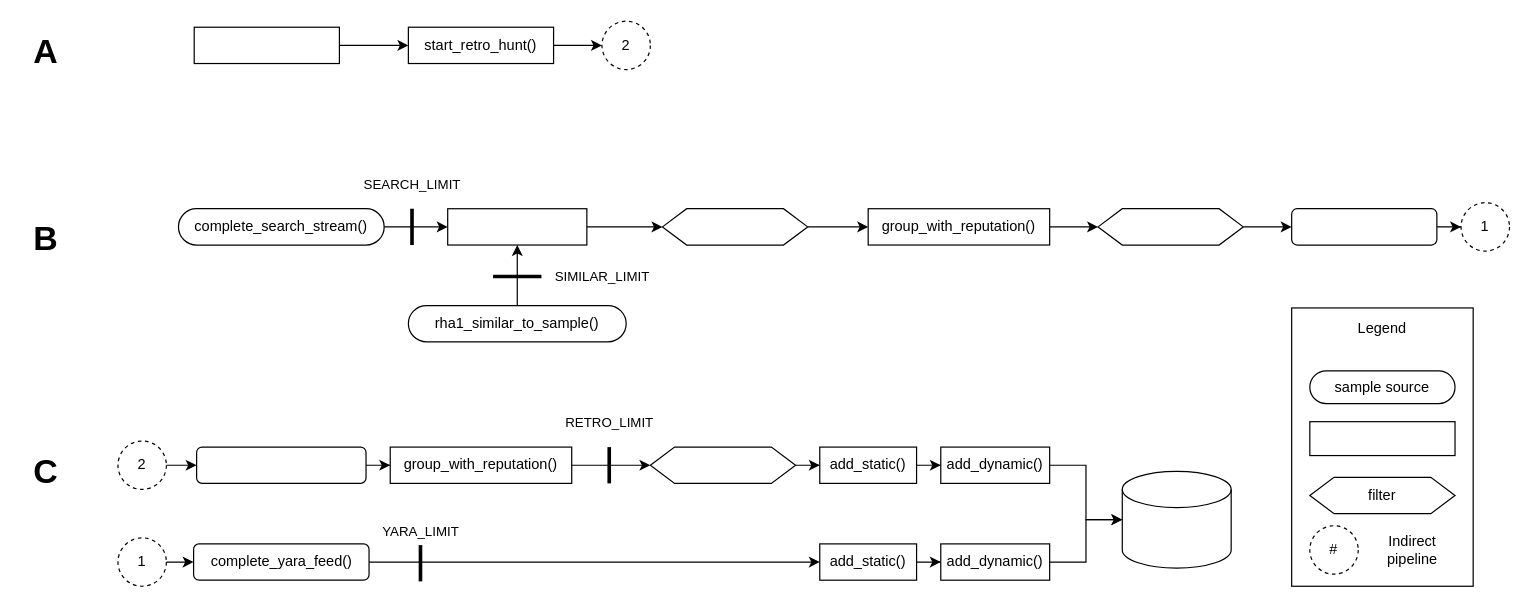
Image size: 1531x607. Some labels were removed from this diagram. The centre of each missing label's shape, as x and y in pixels:
complete_retro_feed(): (280,464)
create_ruleset(): (266,45)
enrichment: (1382,438)
expand_similar(): (516,226)
never_seen(): (734,226)
newer_than_fs(): (722,464)
reanalyze_samples(): (1363,226)
report.csv reports/: (1176,519)
time_gate(): (1170,226)
